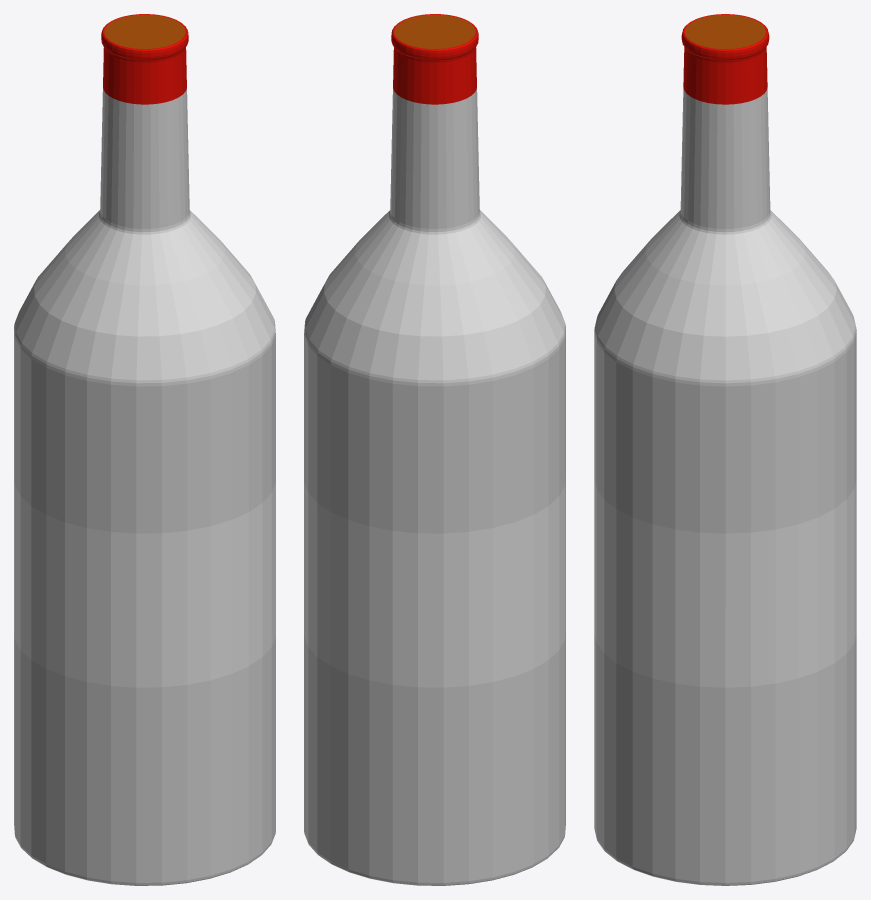
Rendered from Wine.fbx.
3 views of the same model, side by side, from view 1: azimuth 30°, elevation 25°; view 2: azimuth 150°, elevation 25°; view 3: azimuth 270°, elevation 25° (orthographic).
Visible parts, largest first — view 1: Cylinder; view 2: Cylinder; view 3: Cylinder.
Boxes of the visible parts, x1,y1,x2,y2 form: Cylinder: (14, 14, 275, 885); Cylinder: (304, 14, 565, 885); Cylinder: (594, 14, 856, 885).
Bounding box in the file's own units: 114 × 382 × 114.
